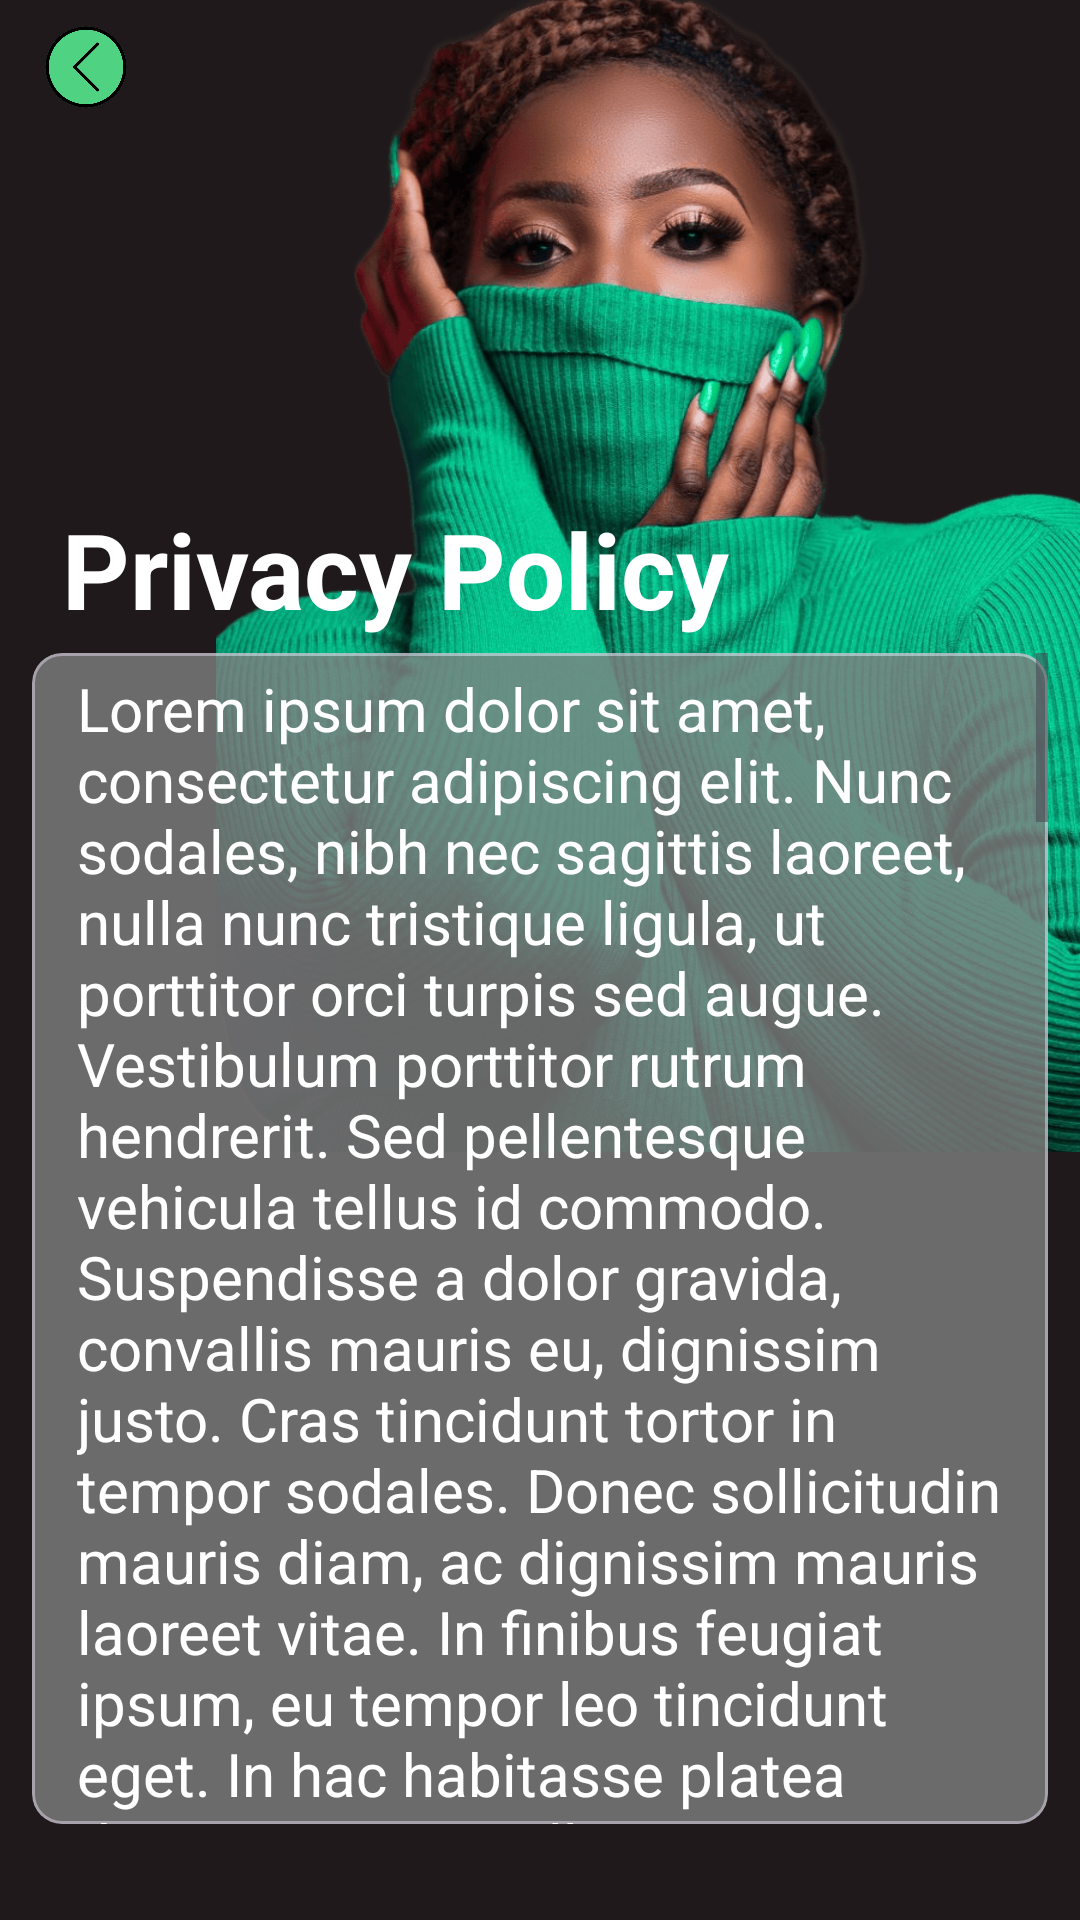

Icon bounding boxes for this 1080w x 1920h phone screenshot, format [x1, y1, x2, y2]:
backbtn: [46, 27, 126, 107]
